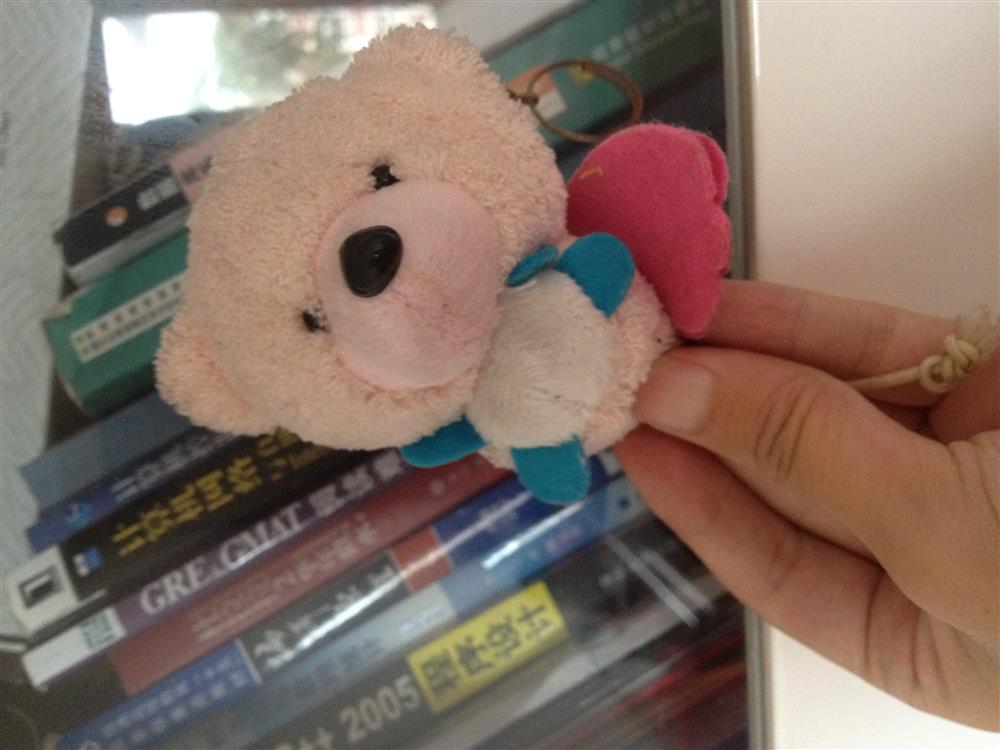toy_dog: (151, 22, 738, 514)
